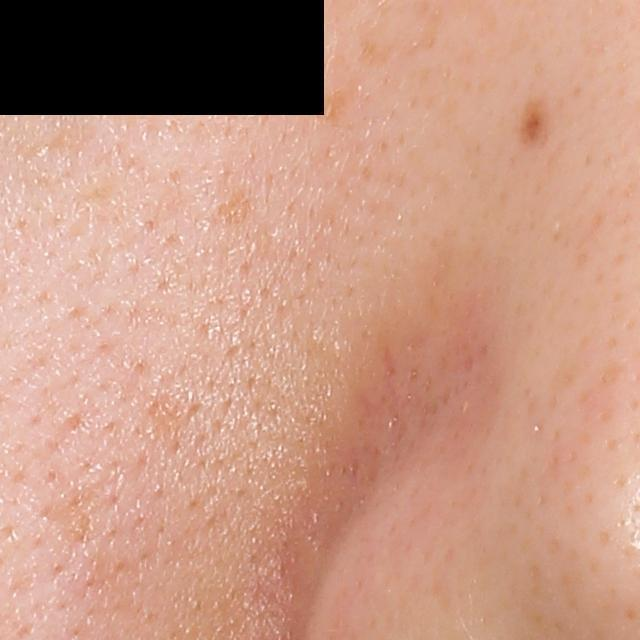melasma: (205, 184, 256, 232), (515, 94, 554, 155), (315, 83, 357, 127)
